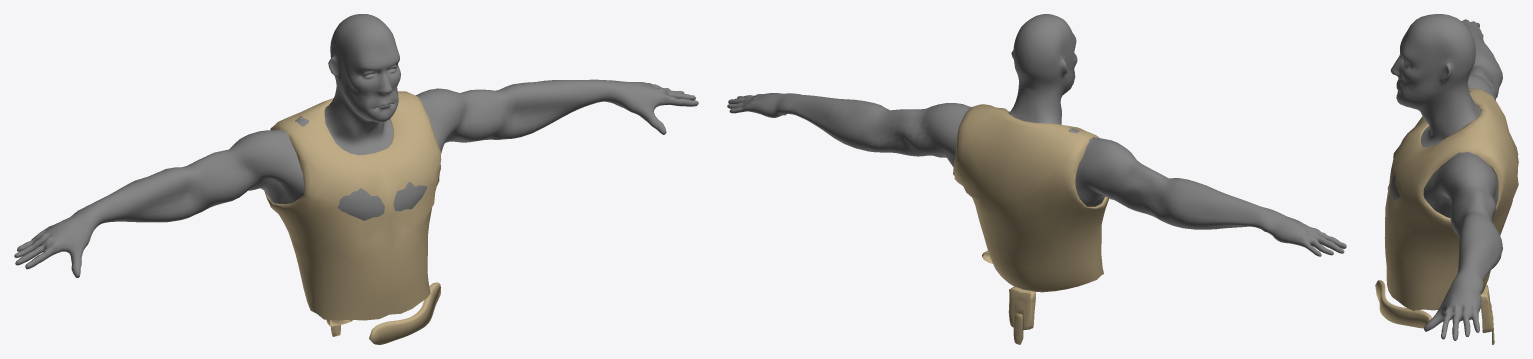
The model's file is hunterLowTest2.fbx.
3 views of the same model, side by side, from view 1: azimuth 30°, elevation 25°; view 2: azimuth 150°, elevation 25°; view 3: azimuth 270°, elevation 25° (orthographic). The views are drawn at different scales.
Parts seen in each view (by area): view 1: skin_low, bodyArmor_low, belt_low; view 2: skin_low, bodyArmor_low, backPocket_low; view 3: skin_low, bodyArmor_low, belt_low, backPocket_low.
Part boxes in pixels (<box>): skin_low: <box>14,14,698,277</box>; bodyArmor_low: <box>264,91,441,320</box>; belt_low: <box>369,282,440,344</box>; skin_low: <box>727,14,1346,256</box>; bodyArmor_low: <box>953,104,1109,292</box>; backPocket_low: <box>1008,286,1035,344</box>; skin_low: <box>1389,14,1502,340</box>; bodyArmor_low: <box>1384,88,1518,310</box>; belt_low: <box>1375,280,1431,328</box>; backPocket_low: <box>1480,284,1494,344</box>.
Bounding box in the file's own units: 33.23 × 15.84 × 6.3.
